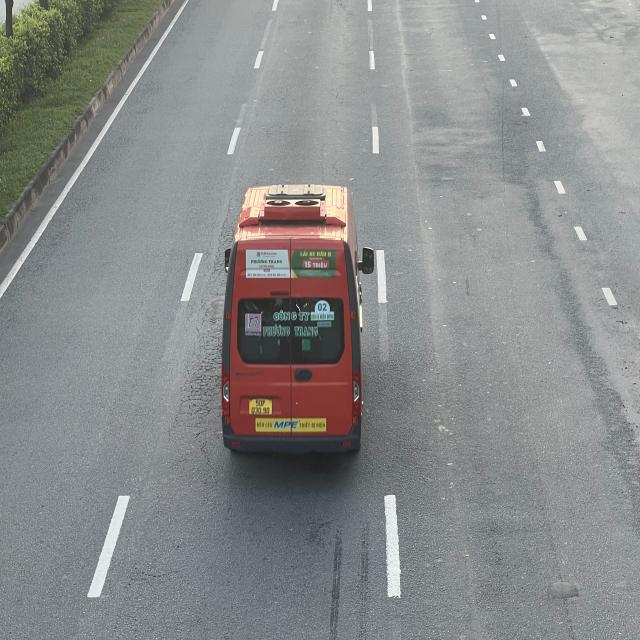van: (222, 184, 373, 459)
